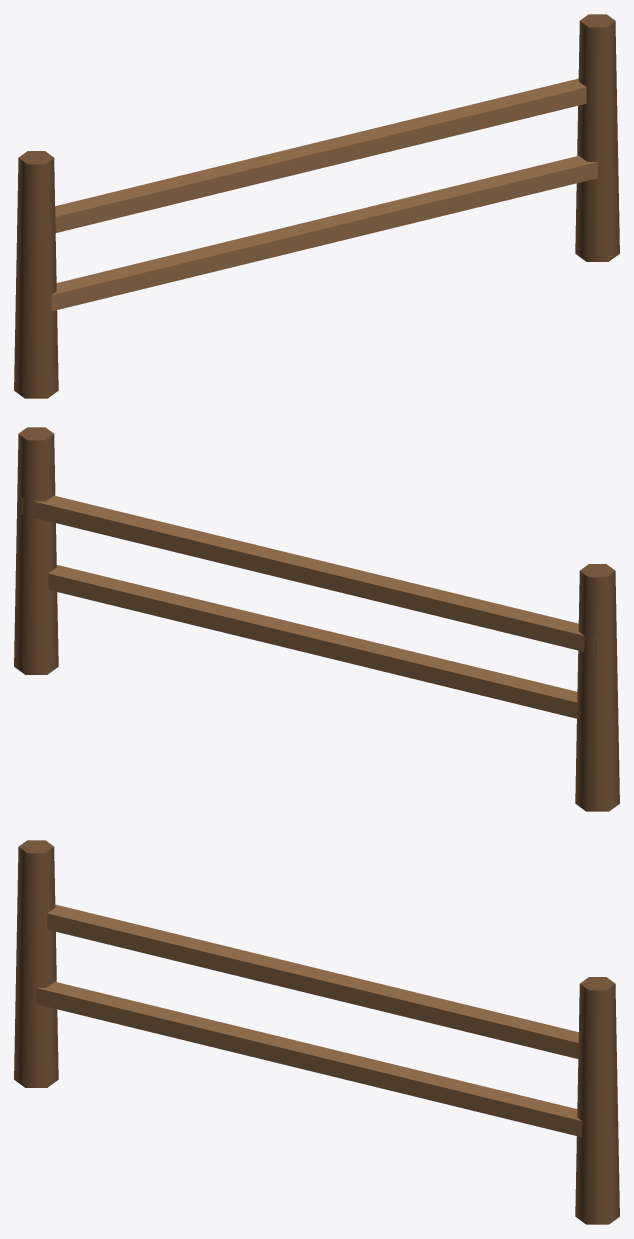
Rendered from fence_mid.glb.
The picture shows the model from 3 angles, top to bottom: view 1: azimuth 30°, elevation 25°; view 2: azimuth 150°, elevation 25°; view 3: azimuth 330°, elevation 25°; orthographic projection.
Size of the model in its own units: 3.07 by 1.15 by 0.2.
